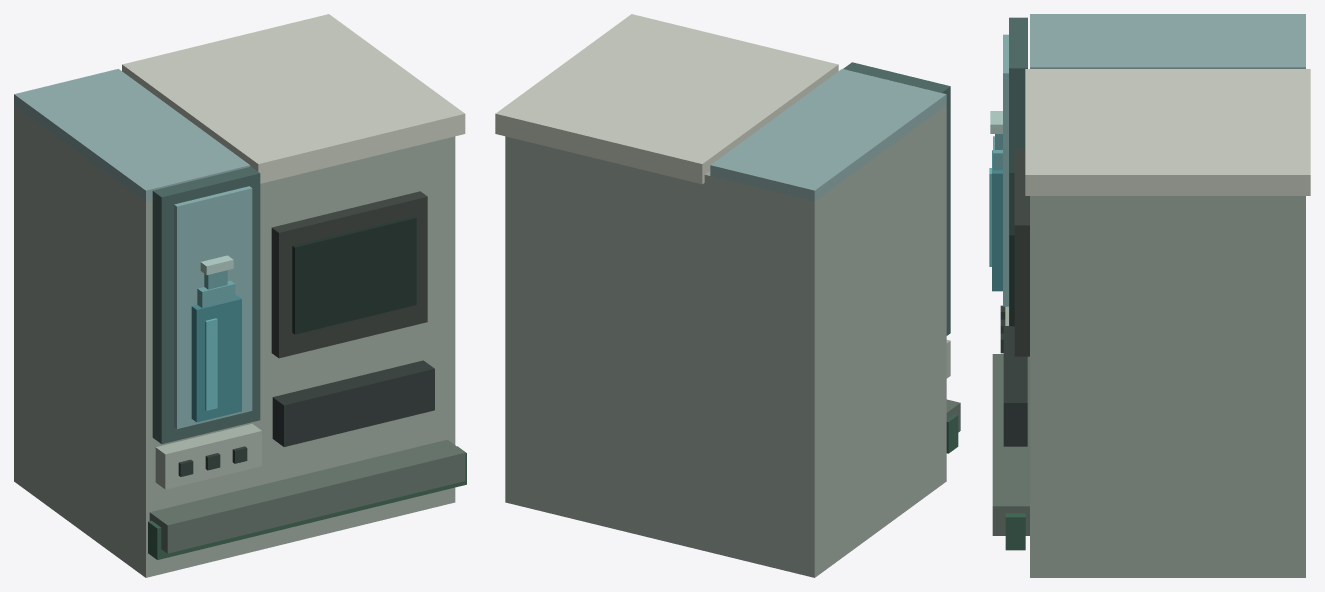
The model's file is CMU3DChemMaster.glb.
The picture shows the model from 3 angles, left to right: view 1: azimuth 30°, elevation 25°; view 2: azimuth 150°, elevation 25°; view 3: azimuth 270°, elevation 25°; orthographic projection. The views are drawn at different scales.
Parts seen in each view (by area): view 1: mixer case, top lip, cyan chamber top, work tray, screen, left vessel window backing, left vessel window frame, screen bezel, right output slot, cyan vessel body, lower left control strip, bottom green band (+2 smaller); view 2: mixer case, top lip, cyan chamber top, left vessel window frame; view 3: mixer case, top lip, cyan chamber top, work tray, screen bezel, left vessel window frame, right output slot, left vessel window backing, cyan vessel body, screen, bottom green band.
Boxes of the visible parts, <box> form: mixer case: <box>14,105,455,577</box>; top lip: <box>122,14,465,183</box>; cyan chamber top: <box>14,69,250,201</box>; work tray: <box>149,439,465,553</box>; screen: <box>292,216,416,334</box>; left vessel window backing: <box>174,186,252,428</box>; left vessel window frame: <box>152,166,260,443</box>; screen bezel: <box>271,191,427,358</box>; right output slot: <box>272,360,434,446</box>; cyan vessel body: <box>191,295,241,422</box>; lower left control strip: <box>155,423,261,489</box>; bottom green band: <box>148,446,466,559</box>; mixer case: <box>505,105,946,577</box>; top lip: <box>495,14,838,184</box>; cyan chamber top: <box>710,69,946,201</box>; left vessel window frame: <box>843,62,950,335</box>; mixer case: <box>1030,196,1305,577</box>; top lip: <box>1025,69,1310,195</box>; cyan chamber top: <box>1030,14,1305,68</box>; work tray: <box>992,354,1029,535</box>; screen bezel: <box>1014,149,1029,356</box>; left vessel window frame: <box>1009,17,1027,325</box>; right output slot: <box>1003,326,1027,446</box>; left vessel window backing: <box>1003,34,1008,306</box>; cyan vessel body: <box>992,150,1002,291</box>; screen: <box>1009,173,1014,326</box>; bottom green band: <box>1005,513,1025,550</box>.
Size of the model in its own units: 0.82 by 0.96 by 0.687.
